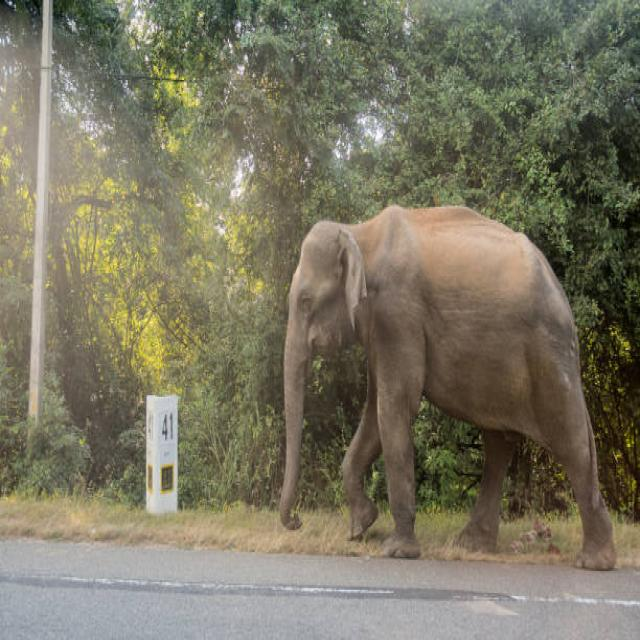Elephant: (274, 201, 620, 582)
